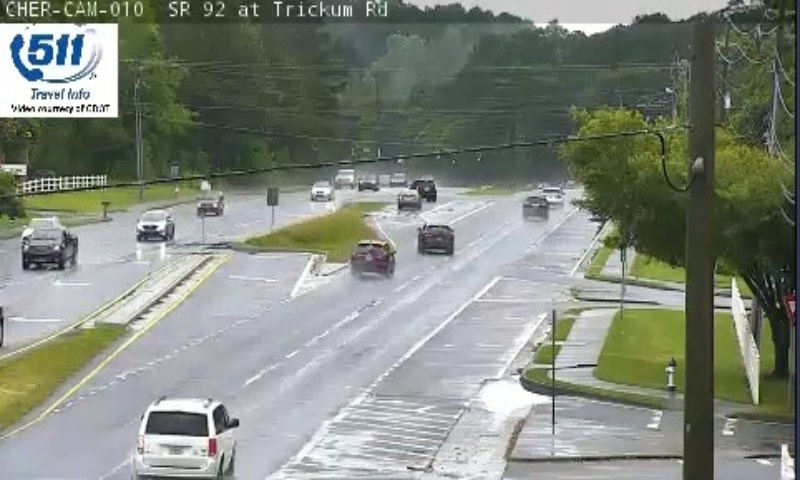car: (137, 398, 235, 478), (351, 240, 393, 274), (419, 223, 453, 252), (523, 194, 549, 220)
